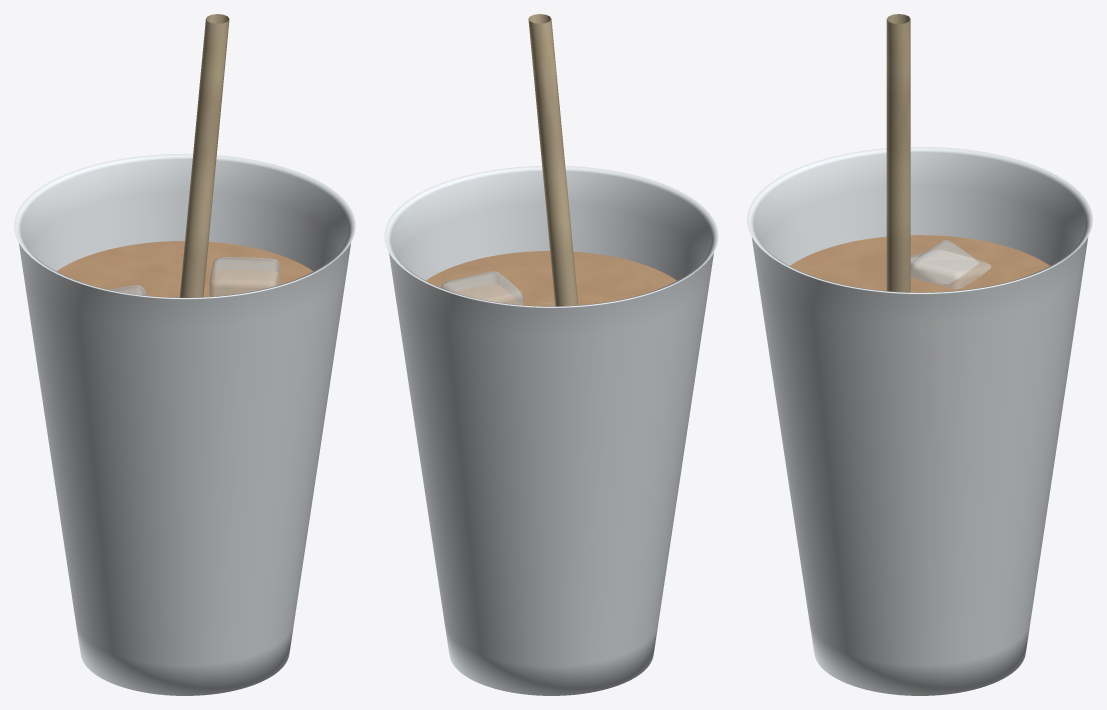
Rendered from iced-chai.glb.
3 renders of one model, left to right at view 1: azimuth 30°, elevation 25°; view 2: azimuth 150°, elevation 25°; view 3: azimuth 270°, elevation 25°, orthographic. The views are drawn at different scales.
Parts seen in each view (by area): view 1: clear, gloss, satin, ice; view 2: clear, gloss, satin, ice; view 3: clear, gloss, satin, ice.
Boxes of the visible parts, <box> form: clear: <box>14,153,355,695</box>; gloss: <box>56,241,313,297</box>; satin: <box>179,14,229,297</box>; ice: <box>109,257,280,296</box>; clear: <box>384,166,718,695</box>; gloss: <box>426,251,676,306</box>; satin: <box>528,14,578,306</box>; ice: <box>441,271,551,304</box>; clear: <box>747,147,1092,695</box>; gloss: <box>790,235,1049,292</box>; satin: <box>886,14,910,292</box>; ice: <box>910,240,990,288</box>.
Size of the model in its own units: 0.098 by 0.201 by 0.098.
4 materials, 4 textured.
